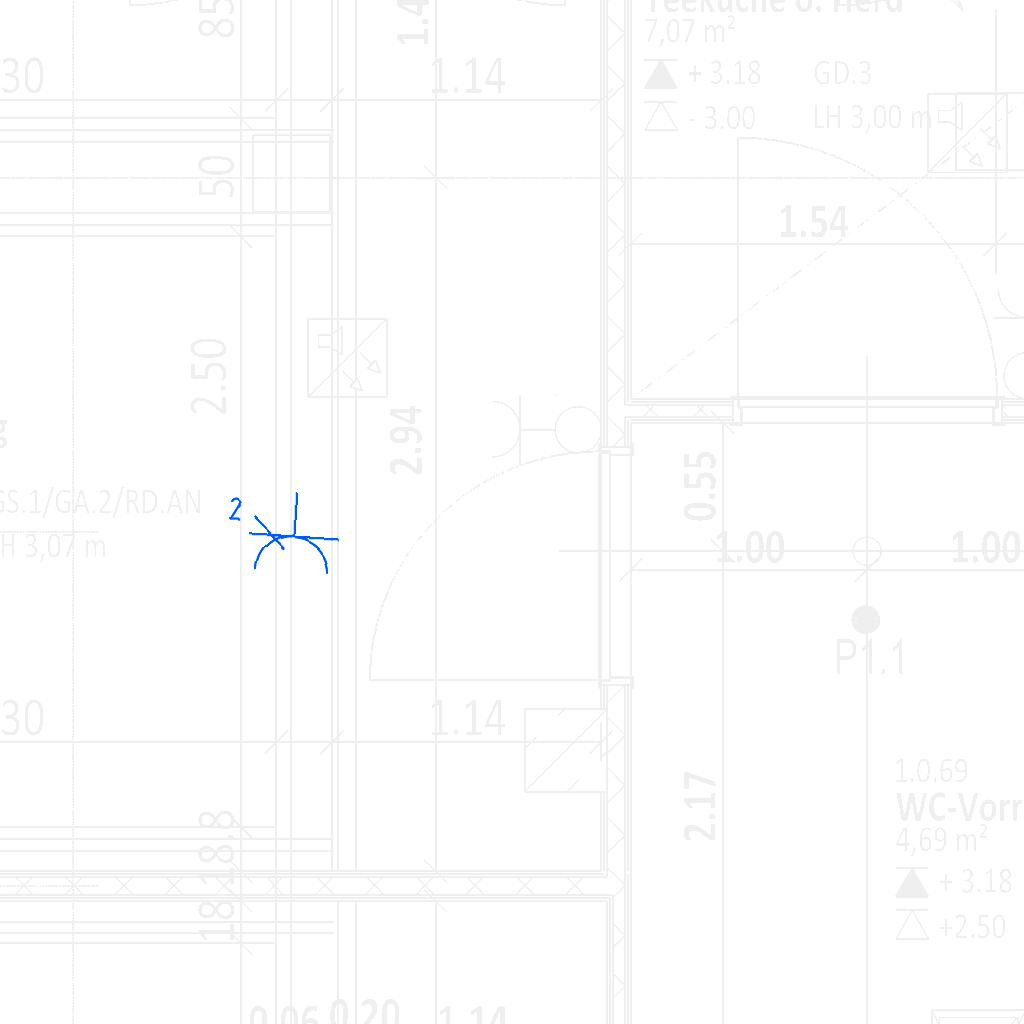Schukosteckdose_mehrfach: (217, 485, 345, 582)
